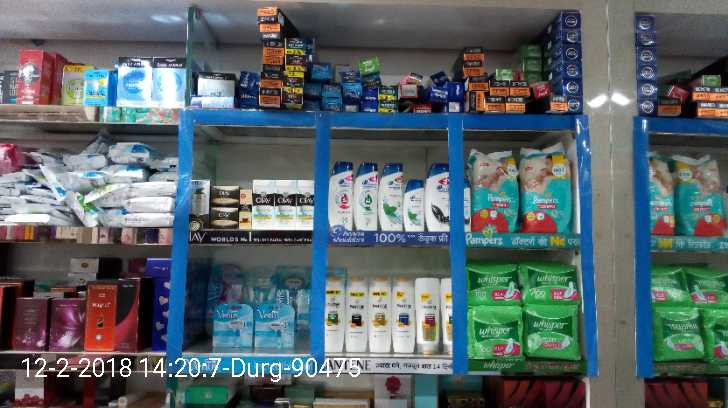venus: (254, 304, 297, 349), (212, 305, 254, 349), (275, 267, 310, 302), (208, 269, 244, 301), (244, 269, 275, 302)
